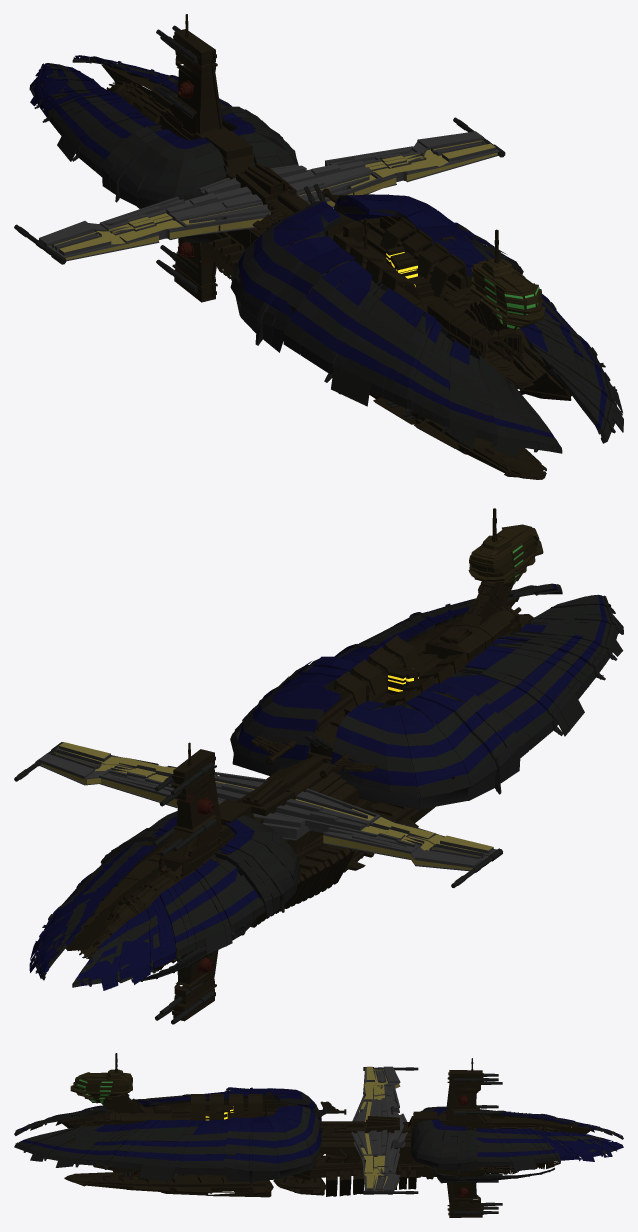
Rendered from munificent.glb.
3 renders of one model, top to bottom at view 1: azimuth 30°, elevation 25°; view 2: azimuth 150°, elevation 25°; view 3: azimuth 270°, elevation 25°, orthographic. The views are drawn at different scales.
Parts seen in each view (by area): view 1: Object_7, Object_4, Object_10, Object_15, Object_16, Object_11; view 2: Object_7, Object_4, Object_10, Object_15, Object_16, Object_11; view 3: Object_7, Object_4, Object_10, Object_15, Object_11, Object_16.
Part boxes in pixels (x1,y1,x2,y2): Object_7: (14,25,623,458); Object_4: (49,14,587,479); Object_10: (29,55,607,438); Object_15: (39,131,499,261); Object_16: (49,140,497,259); Object_11: (470,258,545,330); Object_7: (14,583,623,1024); Object_4: (50,508,585,1021); Object_10: (29,583,607,990); Object_15: (38,746,496,871); Object_16: (41,742,492,869); Object_11: (468,524,543,586); Object_7: (14,1067,623,1214); Object_4: (60,1053,591,1217); Object_10: (21,1087,623,1163); Object_15: (351,1066,407,1191); Object_11: (70,1069,132,1103); Object_16: (354,1066,399,1189).
Bounding box in the file's own units: 799 × 483 × 1643.
